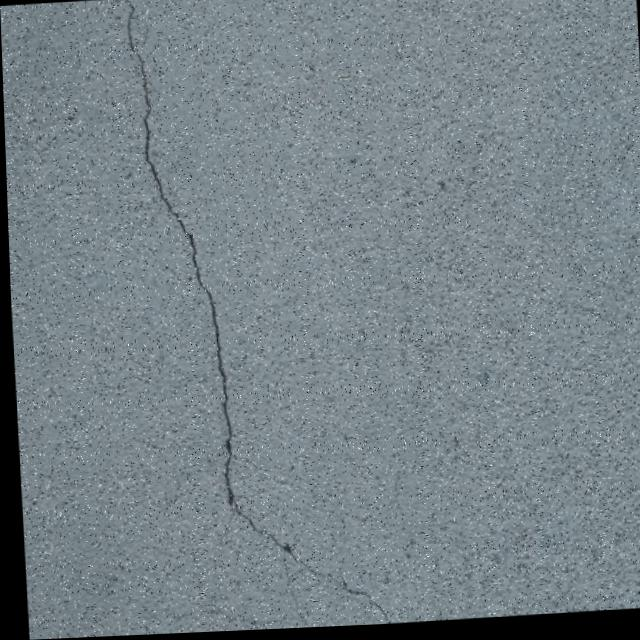Crack: (108, 0, 393, 636)
